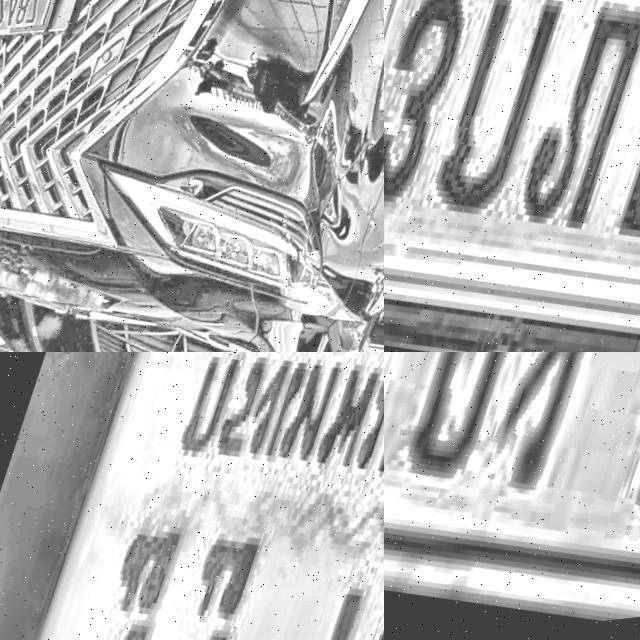license-plate: (0, 352, 384, 640), (384, 0, 640, 352), (384, 352, 640, 640), (0, 0, 80, 67)
